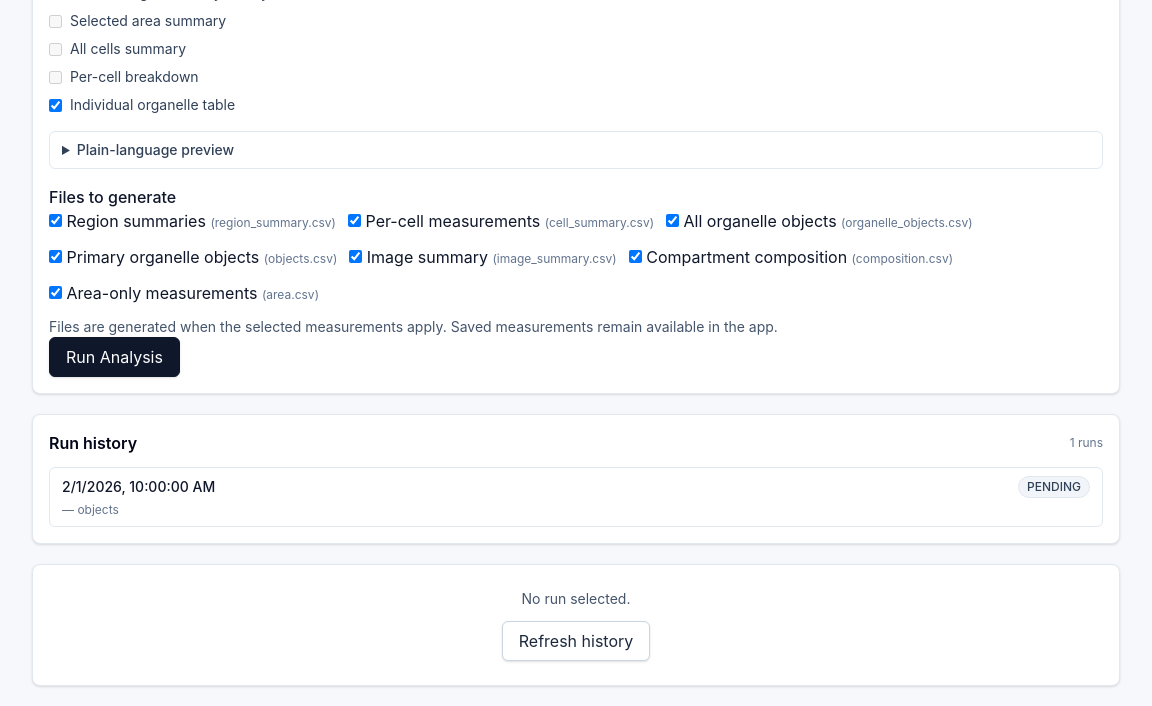
Test: AnalysisScreen › stops offering Cancel once one has been requested
(page scrolled)
Click the button "Run Analysis" at x=114, y=357, box [49,337,180,377]
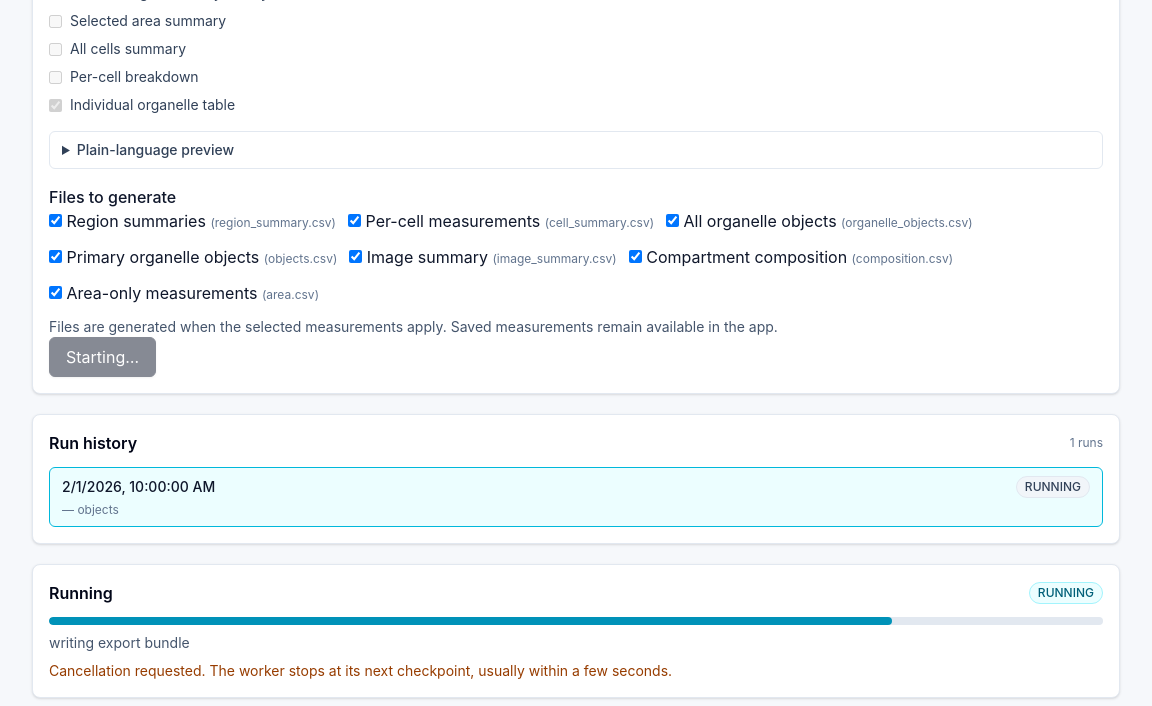
Expected: the text "Cancellation requested." is shown, [49,662,672,679]
